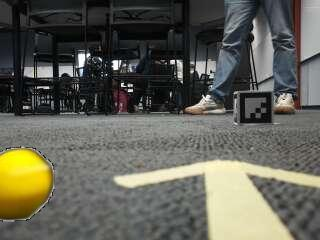lemon: (0, 151, 52, 220)
